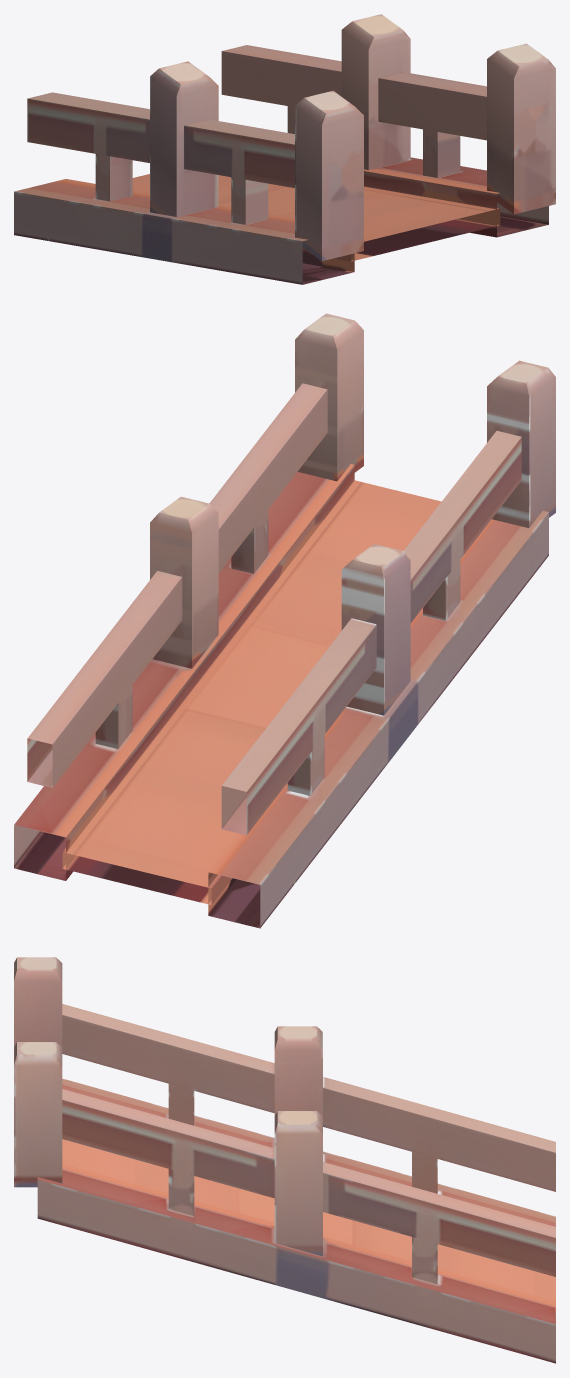
Rendered from Model_bridge_xiepo.fbx.
3 views of the same model, one above another, from view 1: azimuth 30°, elevation 25°; view 2: azimuth 150°, elevation 25°; view 3: azimuth 270°, elevation 25° (orthographic). The views are drawn at different scales.
Parts seen in each view (by area): view 1: xiemian; view 2: xiemian; view 3: xiemian.
Boxes of the visible parts, left/top/right/bottom form: xiemian: left=14, top=14, right=555, bottom=284; xiemian: left=14, top=313, right=555, bottom=928; xiemian: left=14, top=957, right=555, bottom=1363.
Size of the model in its own units: 0.9853 by 1.29 by 2.09.
Materials: 1 (1 with a texture image).
